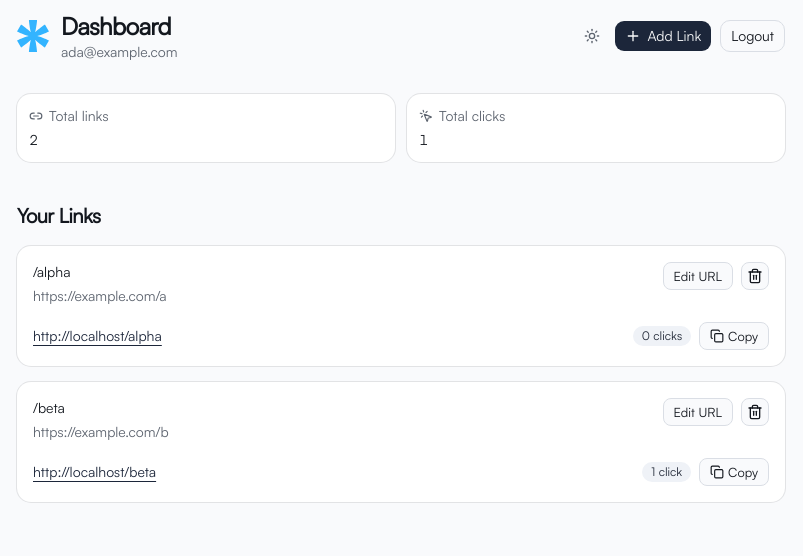
Test: Home dashboard › renders click counts and keeps links visible after a failed deletion
Expected: the icon "0 clicks" is shown, 633,326 -> 691,346
Expected: the icon "1 click" is shown, 642,462 -> 691,482
Click the button named "Delete /alpha": (755, 276) 741,262 -> 769,290
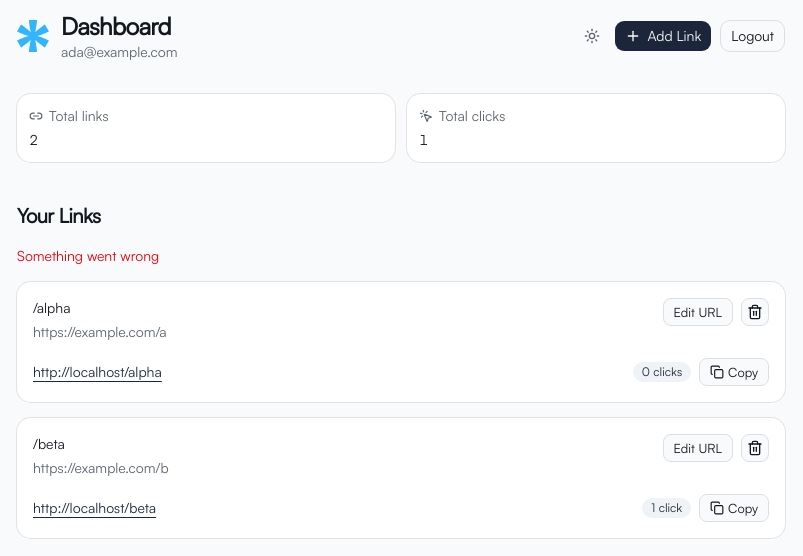
Expected: the text "/alpha" is shown, 33,299 -> 70,316
Result: the message reads "Something went wrong" at 17,247 -> 159,264
